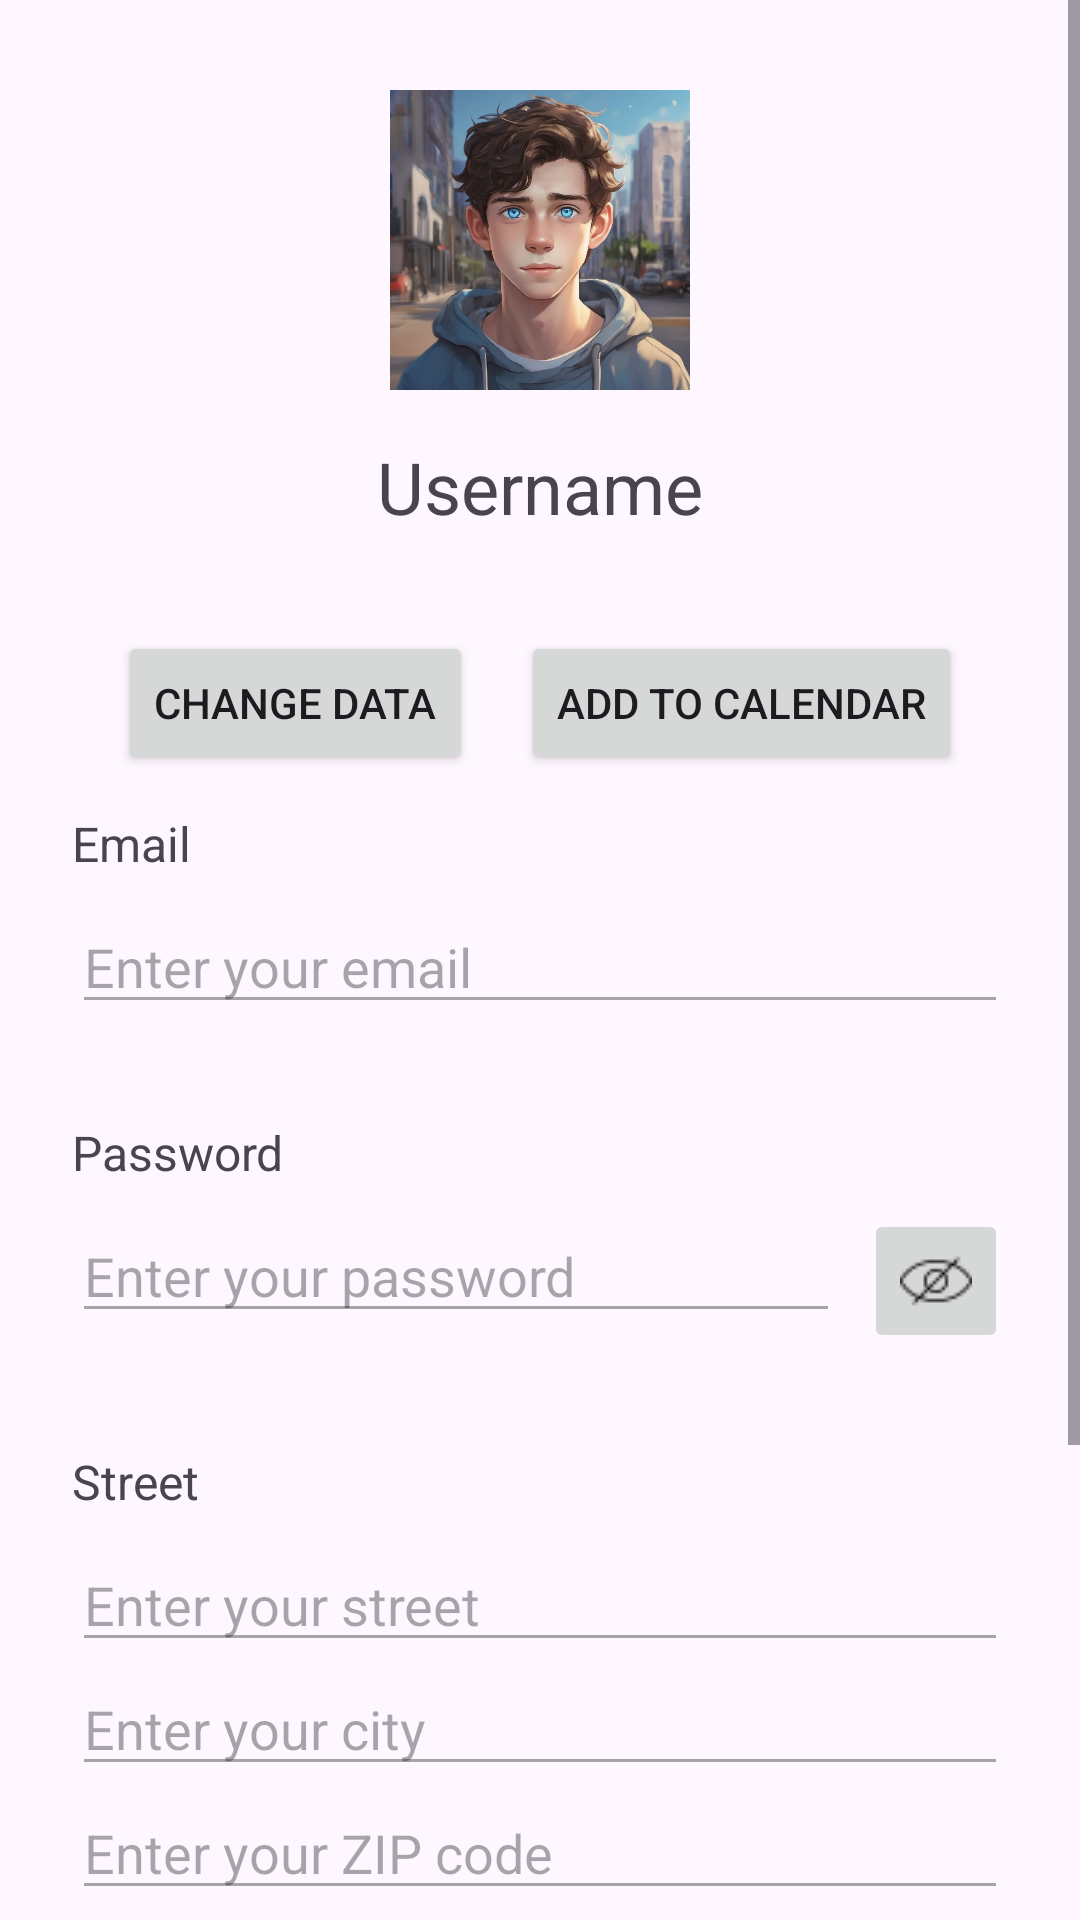

Screen size 1080w x 1920h. Icon name, then its box in pixels as (x1, y1, x2, y2):
Profile Picture: (390, 90, 690, 390)
Toggle Password Visibility: (876, 1227, 996, 1335)
